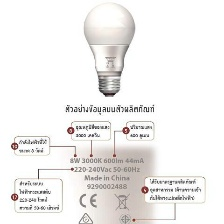light_bulb: (80, 0, 139, 99)
